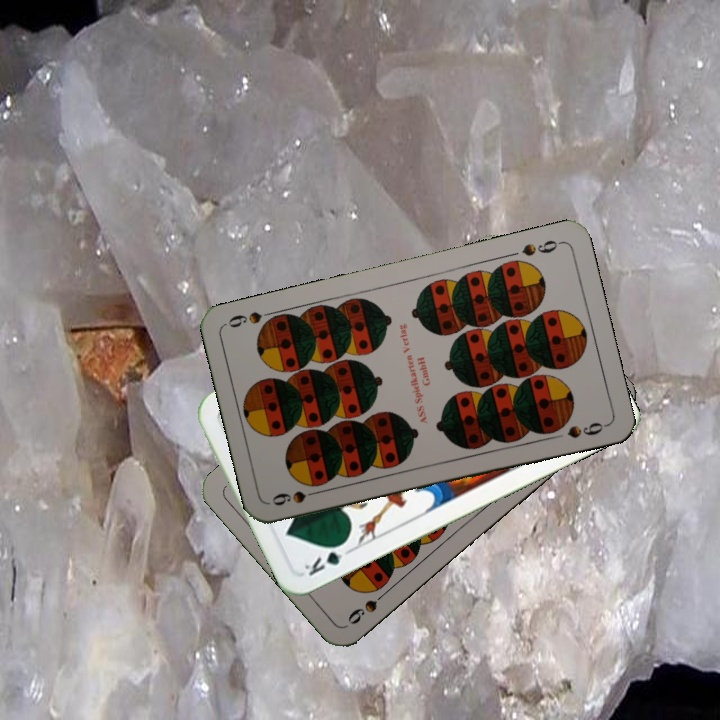GK: (300, 537, 355, 579)
S9: (343, 584, 393, 628), (268, 485, 327, 509), (518, 236, 565, 259)
